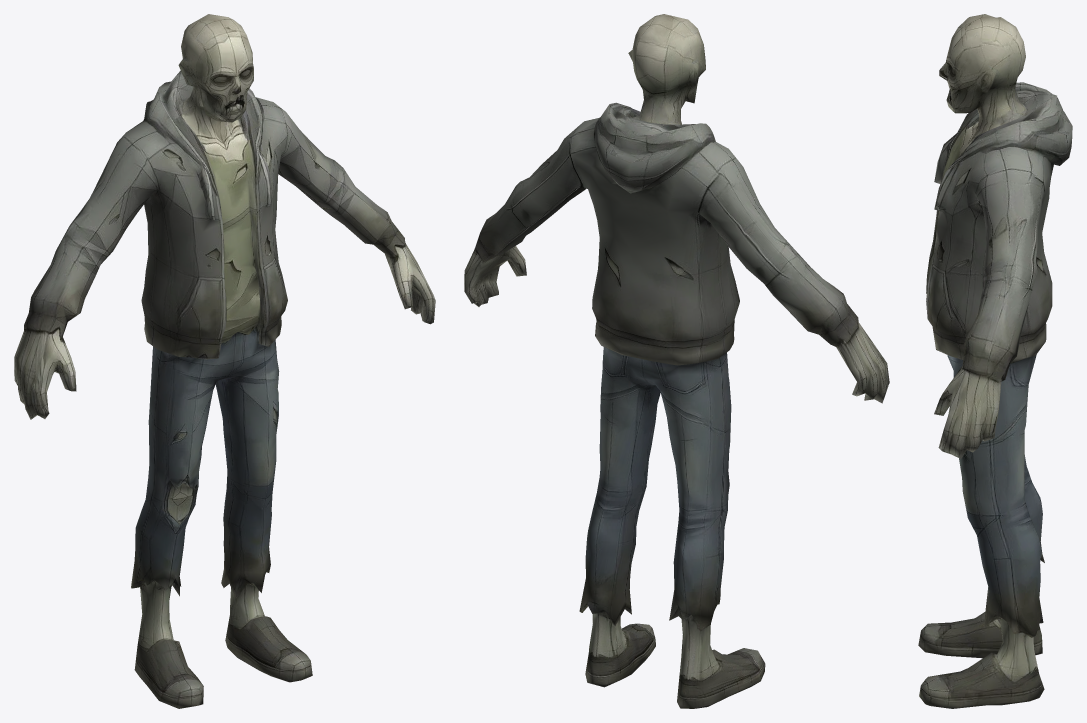
File: texture-web.glb
The picture shows the model from 3 angles, left to right: view 1: azimuth 30°, elevation 25°; view 2: azimuth 150°, elevation 25°; view 3: azimuth 270°, elevation 25°; orthographic projection.
Parts seen in each view (by area): view 1: Mesh_0; view 2: Mesh_0; view 3: Mesh_0.
Part boxes in pixels (box(x1,y1,x2,y2)): Mesh_0: box(14, 14, 435, 708); Mesh_0: box(464, 14, 889, 708); Mesh_0: box(918, 14, 1072, 708).
Size of the model in its own units: 1.26 by 1.92 by 0.4093.
1 material, 1 textured.
